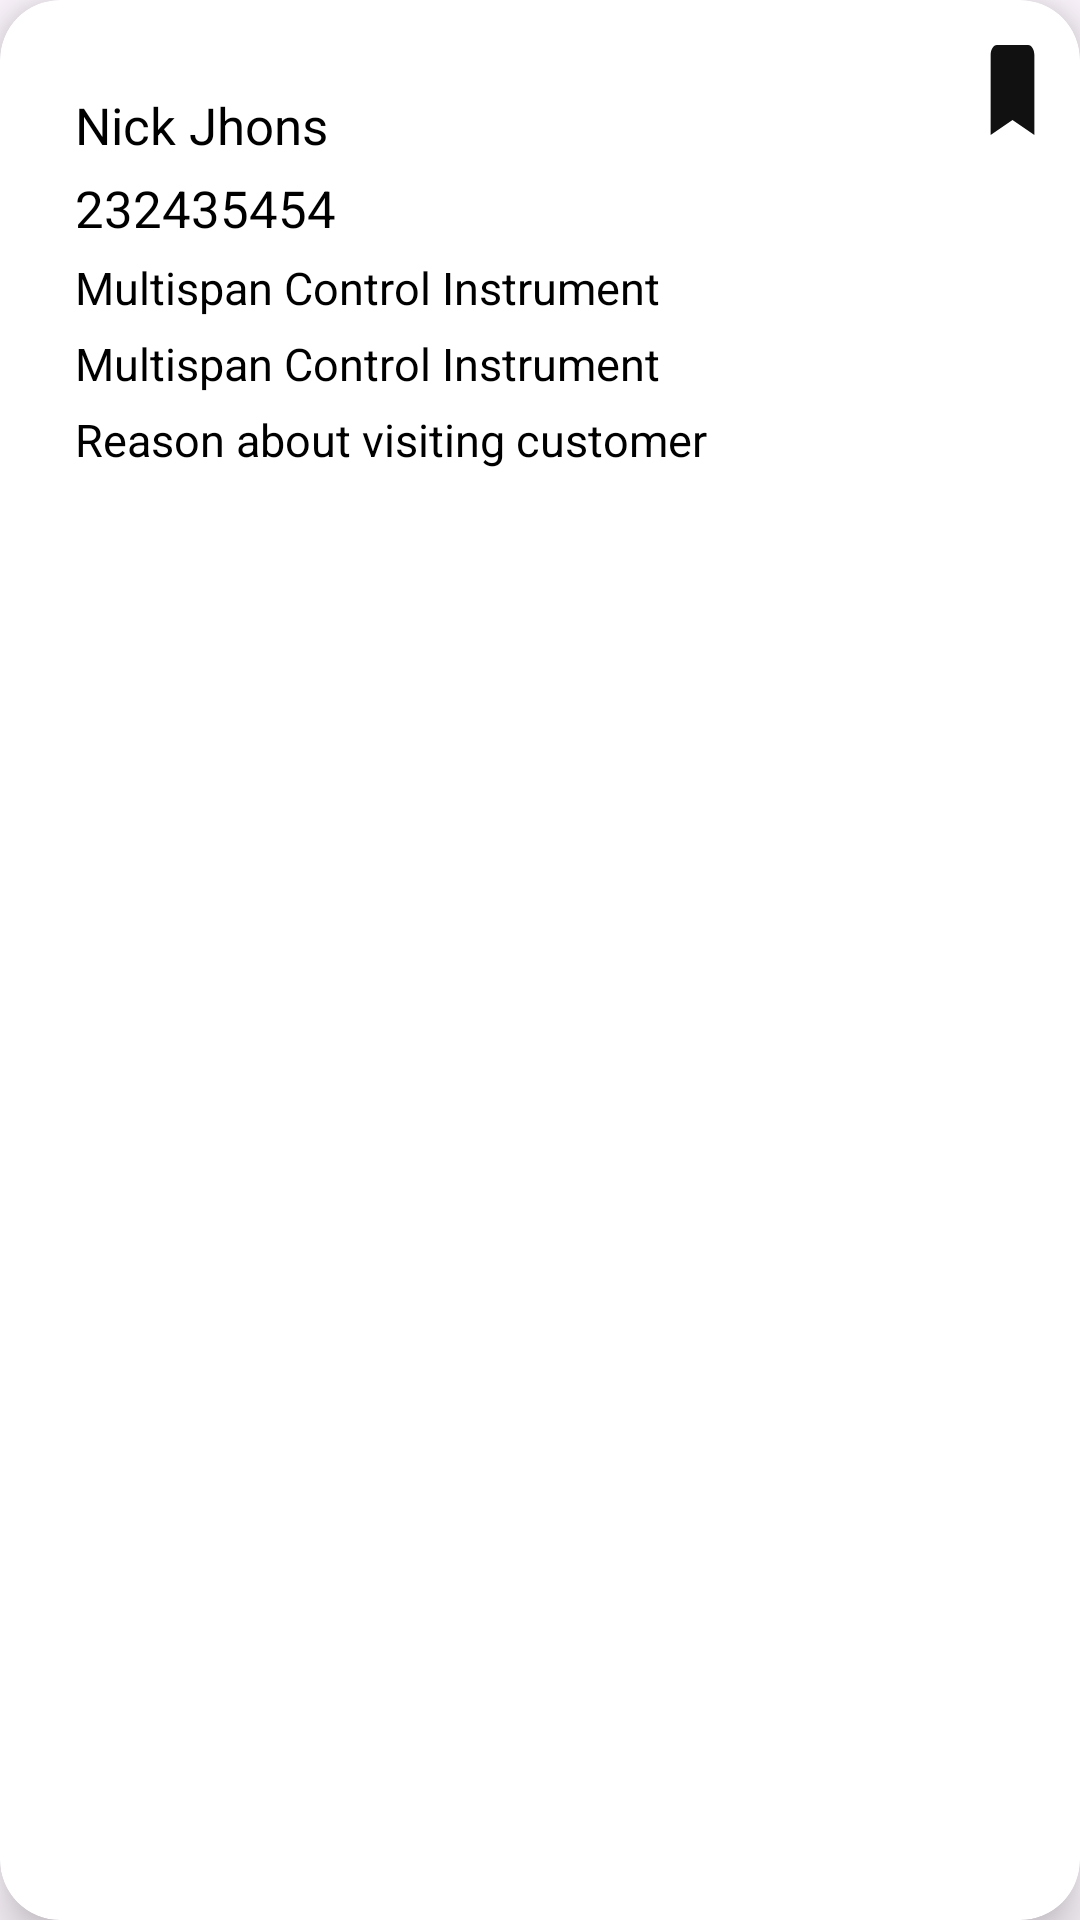

Icons on this 1080px x 1920px Android screen, each with the point to tap as [x,y]:
bookmark: [1012,90]
